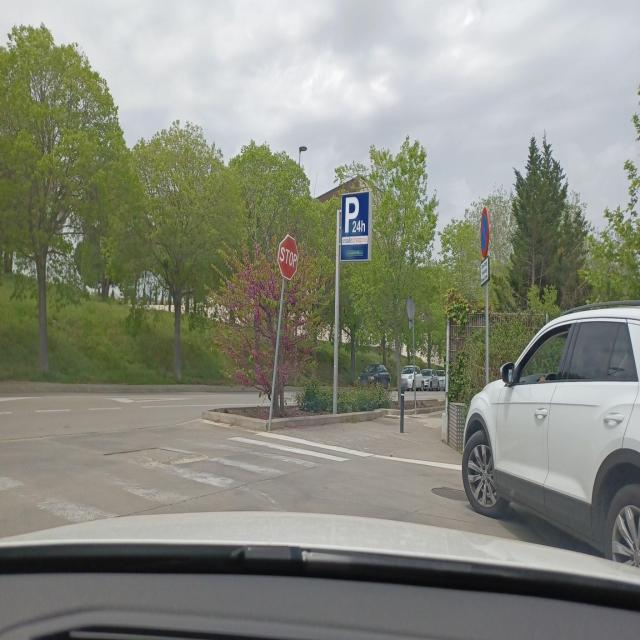forb_stopping: (479, 205, 490, 256), (481, 207, 490, 258)
